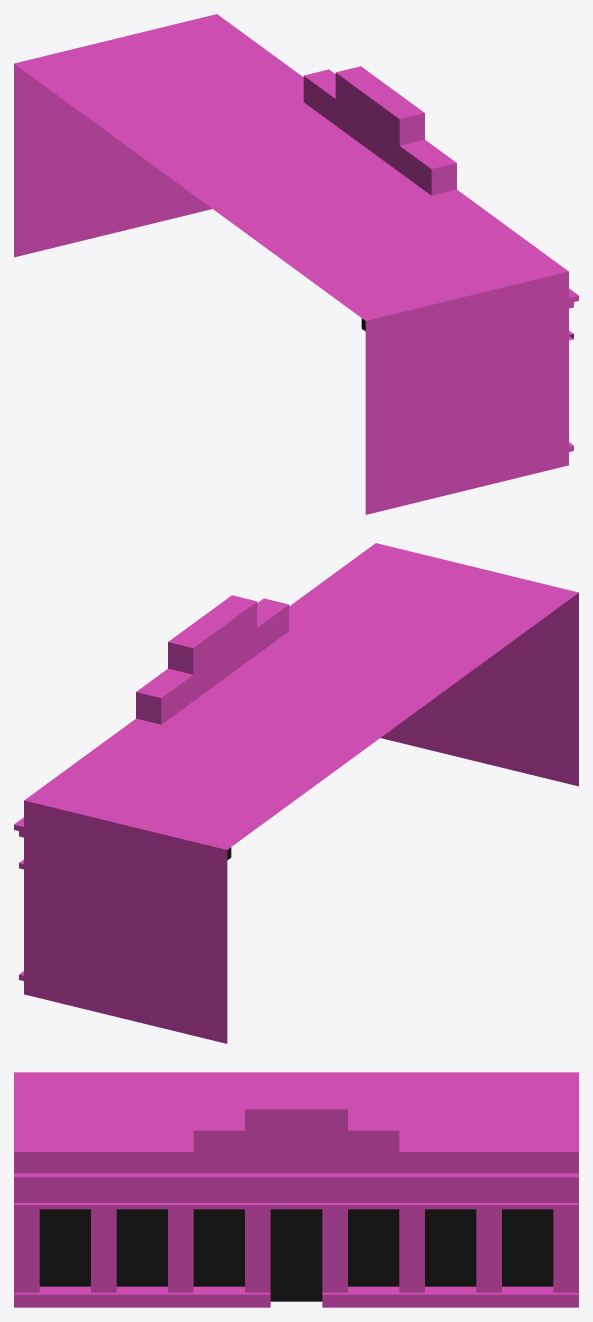
File: Edificio-2.fbx
The picture shows the model from 3 angles, top to bottom: view 1: azimuth 30°, elevation 25°; view 2: azimuth 150°, elevation 25°; view 3: azimuth 270°, elevation 25°; orthographic projection. The views are drawn at different scales.
Parts seen in each view (by area): view 1: Plane; view 2: Plane; view 3: Plane.
Part boxes in pixels (x1,y1,x2,y2): Plane: [14, 14, 578, 514]; Plane: [14, 543, 578, 1043]; Plane: [14, 1072, 578, 1307].
Bounding box in the file's own units: 840 × 930 × 2400.
